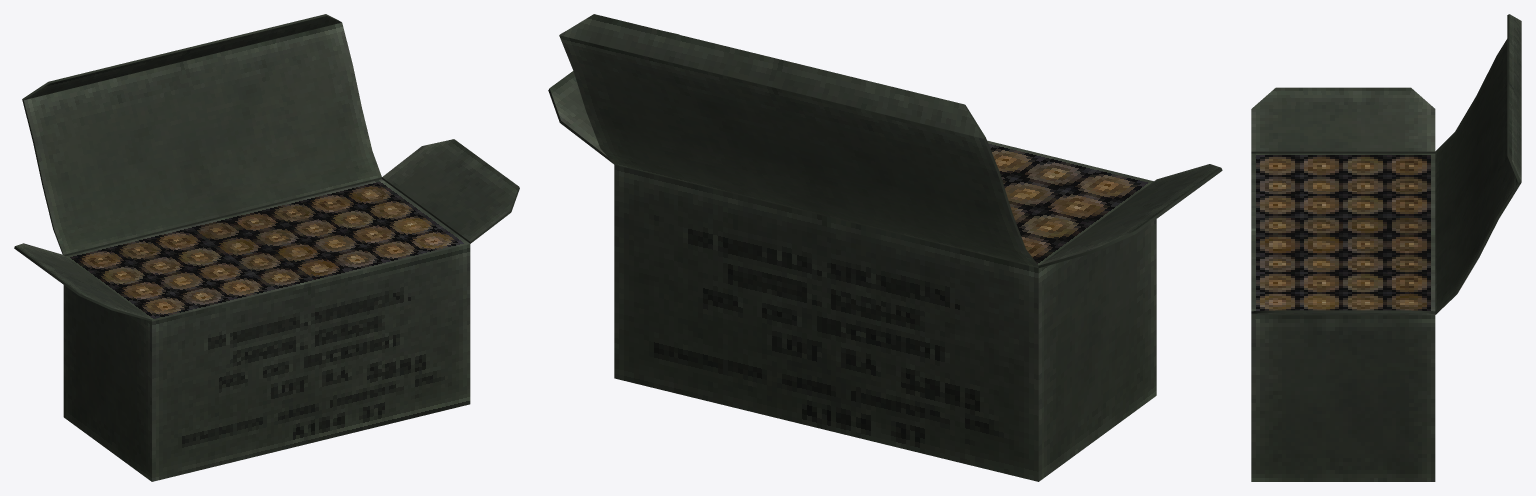
Rendered from ammo_box_mp_2.glb.
The picture shows the model from 3 angles, left to right: view 1: azimuth 30°, elevation 25°; view 2: azimuth 150°, elevation 25°; view 3: azimuth 270°, elevation 25°; orthographic projection. The views are drawn at different scales.
Parts seen in each view (by area): view 1: ammo_box_mp_2; view 2: ammo_box_mp_2; view 3: ammo_box_mp_2.
Part boxes in pixels (x1,y1,x2,y2): ammo_box_mp_2: (14,14,519,481); ammo_box_mp_2: (548,14,1222,481); ammo_box_mp_2: (1251,14,1521,481).
Bounding box in the file's own units: 0.2159 × 0.1424 × 0.1101.
Materials: 1 (1 with a texture image).
